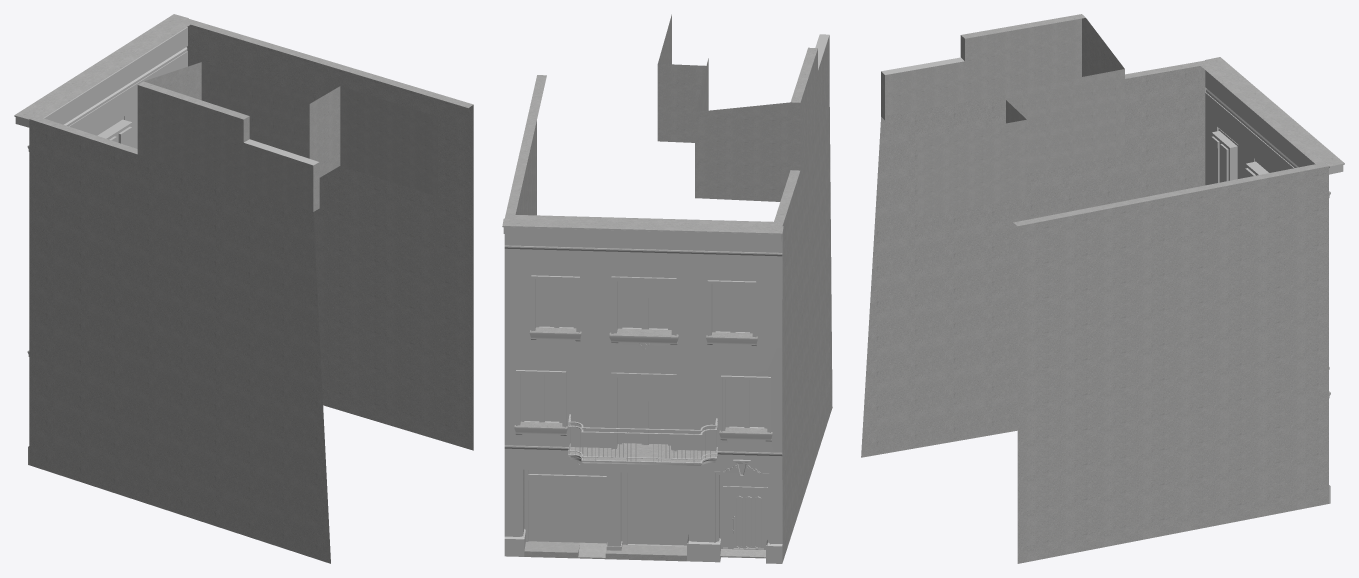
Rendered from ohTomate.fbx.
The picture shows the model from 3 angles, left to right: view 1: azimuth 30°, elevation 25°; view 2: azimuth 150°, elevation 25°; view 3: azimuth 270°, elevation 25°; orthographic projection. The views are drawn at different scales.
Parts seen in each view (by area): view 1: polySurface1765, polySurface1771; view 2: polySurface1765, polySurface1772, polySurface1771, polySurface1823, polySurface1770, polySurface1769, polySurface1768, polySurface1774, polySurface1767, polySurface1839; view 3: polySurface1765.
Part boxes in pixels (left/top/right/bottom): polySurface1765: left=14, top=14, right=473, bottom=563; polySurface1771: left=95, top=116, right=132, bottom=146; polySurface1765: left=502, top=14, right=832, bottom=563; polySurface1772: left=611, top=372, right=676, bottom=451; polySurface1771: left=609, top=276, right=678, bottom=346; polySurface1823: left=719, top=475, right=767, bottom=549; polySurface1770: left=514, top=370, right=567, bottom=438; polySurface1769: left=719, top=375, right=772, bottom=443; polySurface1768: left=529, top=275, right=581, bottom=342; polySurface1774: left=568, top=443, right=717, bottom=467; polySurface1767: left=504, top=445, right=782, bottom=458; polySurface1839: left=578, top=542, right=606, bottom=559; polySurface1765: left=861, top=14, right=1344, bottom=563.
Size of the model in its own units: 1302 by 1454 by 1572.
